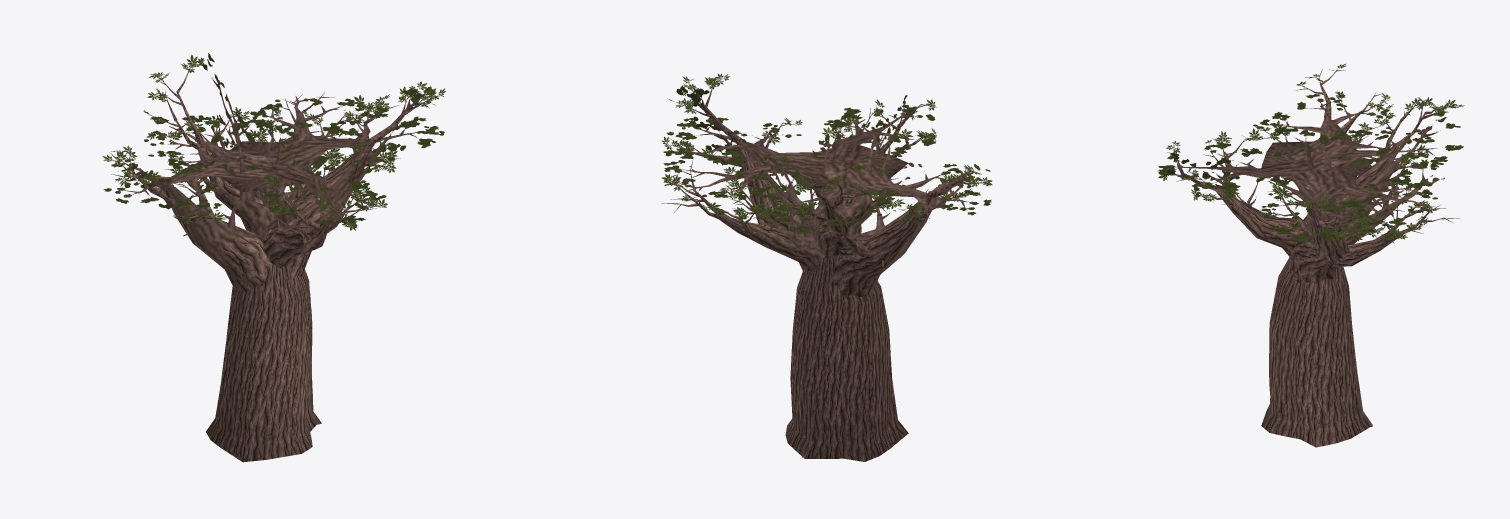
File: Baoba_02_Digitata_Bifurcado.glb
The picture shows the model from 3 angles, left to right: view 1: azimuth 30°, elevation 25°; view 2: azimuth 150°, elevation 25°; view 3: azimuth 270°, elevation 25°; orthographic projection. The views are drawn at different scales.
Parts seen in each view (by area): view 1: Baoba_02_Digitata_Bifurcado impostor, Tronco, Bracos principais, Folhas palmadas, Ramos secundarios, Ramos finos, Ponteiras; view 2: Tronco, Baoba_02_Digitata_Bifurcado impostor, Bracos principais, Folhas palmadas, Ramos secundarios, Ramos finos, Ponteiras; view 3: Baoba_02_Digitata_Bifurcado impostor, Tronco, Bracos principais, Folhas palmadas, Ramos secundarios, Ramos finos, Ponteiras.
Boxes of the visible parts, <box> form: Baoba_02_Digitata_Bifurcado impostor: <box>103,53,444,452</box>; Tronco: <box>206,263,316,462</box>; Bracos principais: <box>164,133,374,292</box>; Folhas palmadas: <box>102,54,445,230</box>; Ramos secundarios: <box>136,92,408,240</box>; Ramos finos: <box>116,67,423,235</box>; Ponteiras: <box>108,62,440,233</box>; Tronco: <box>785,257,908,461</box>; Baoba_02_Digitata_Bifurcado impostor: <box>663,87,991,457</box>; Bracos principais: <box>719,140,931,298</box>; Folhas palmadas: <box>661,73,992,220</box>; Ramos secundarios: <box>694,106,960,257</box>; Ramos finos: <box>674,83,979,241</box>; Ponteiras: <box>661,78,987,240</box>; Baoba_02_Digitata_Bifurcado impostor: <box>1158,94,1463,426</box>; Tronco: <box>1261,257,1372,447</box>; Bracos principais: <box>1216,117,1398,283</box>; Folhas palmadas: <box>1157,64,1464,243</box>; Ramos secundarios: <box>1184,84,1425,254</box>; Ramos finos: <box>1174,71,1444,243</box>; Ponteiras: <box>1165,68,1459,240</box>.
Size of what is drawn, in the model's own units: 15.78 by 15.78 by 15.78.
Materials: 3 (3 with a texture image).
